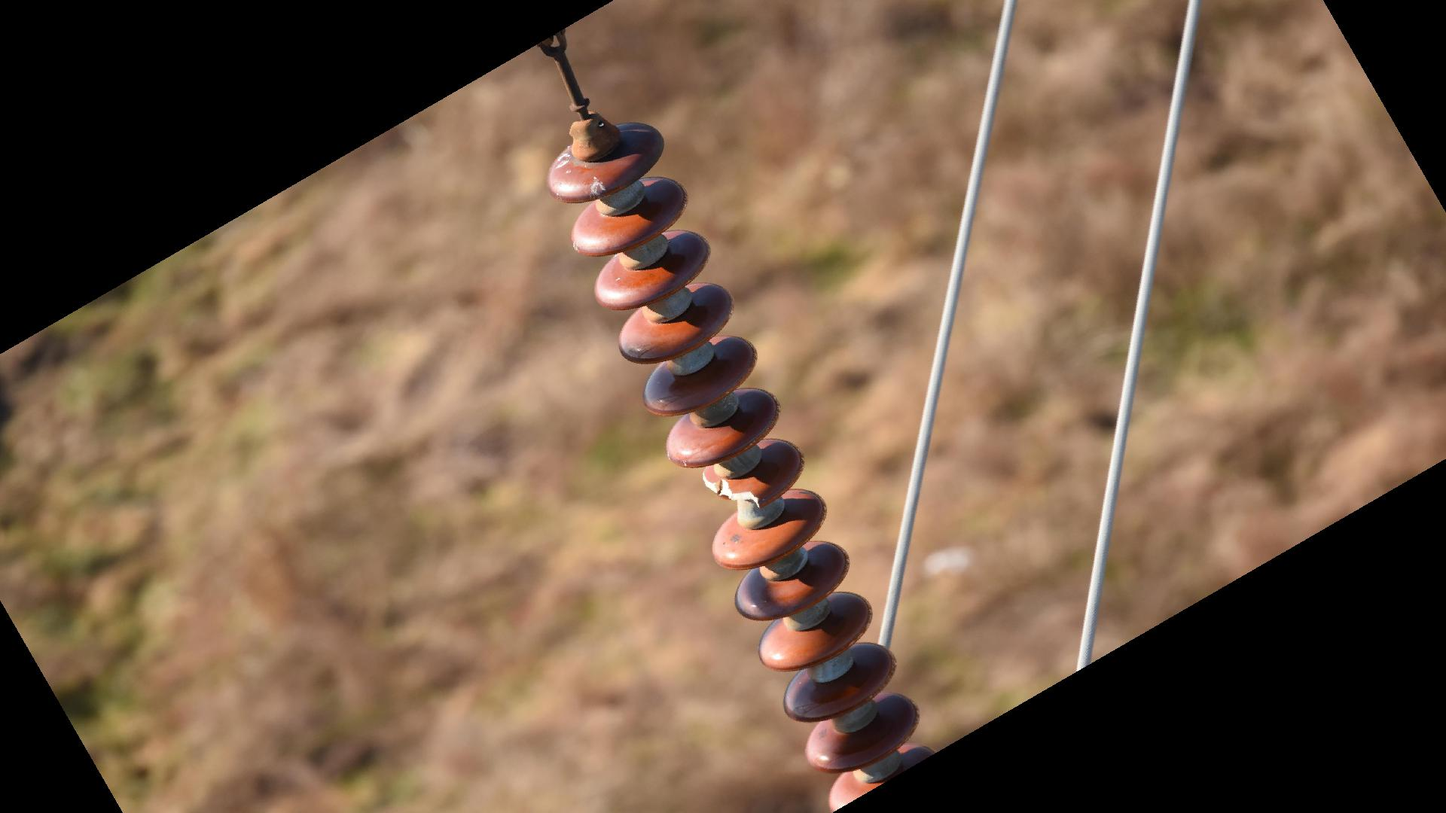insulator: (541, 114, 941, 813)
insulator_breakage: (697, 467, 766, 513)
